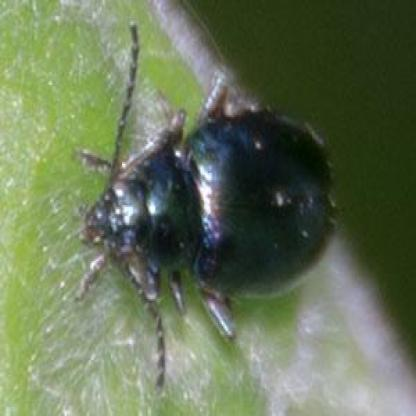beetle: (87, 81, 339, 355)
